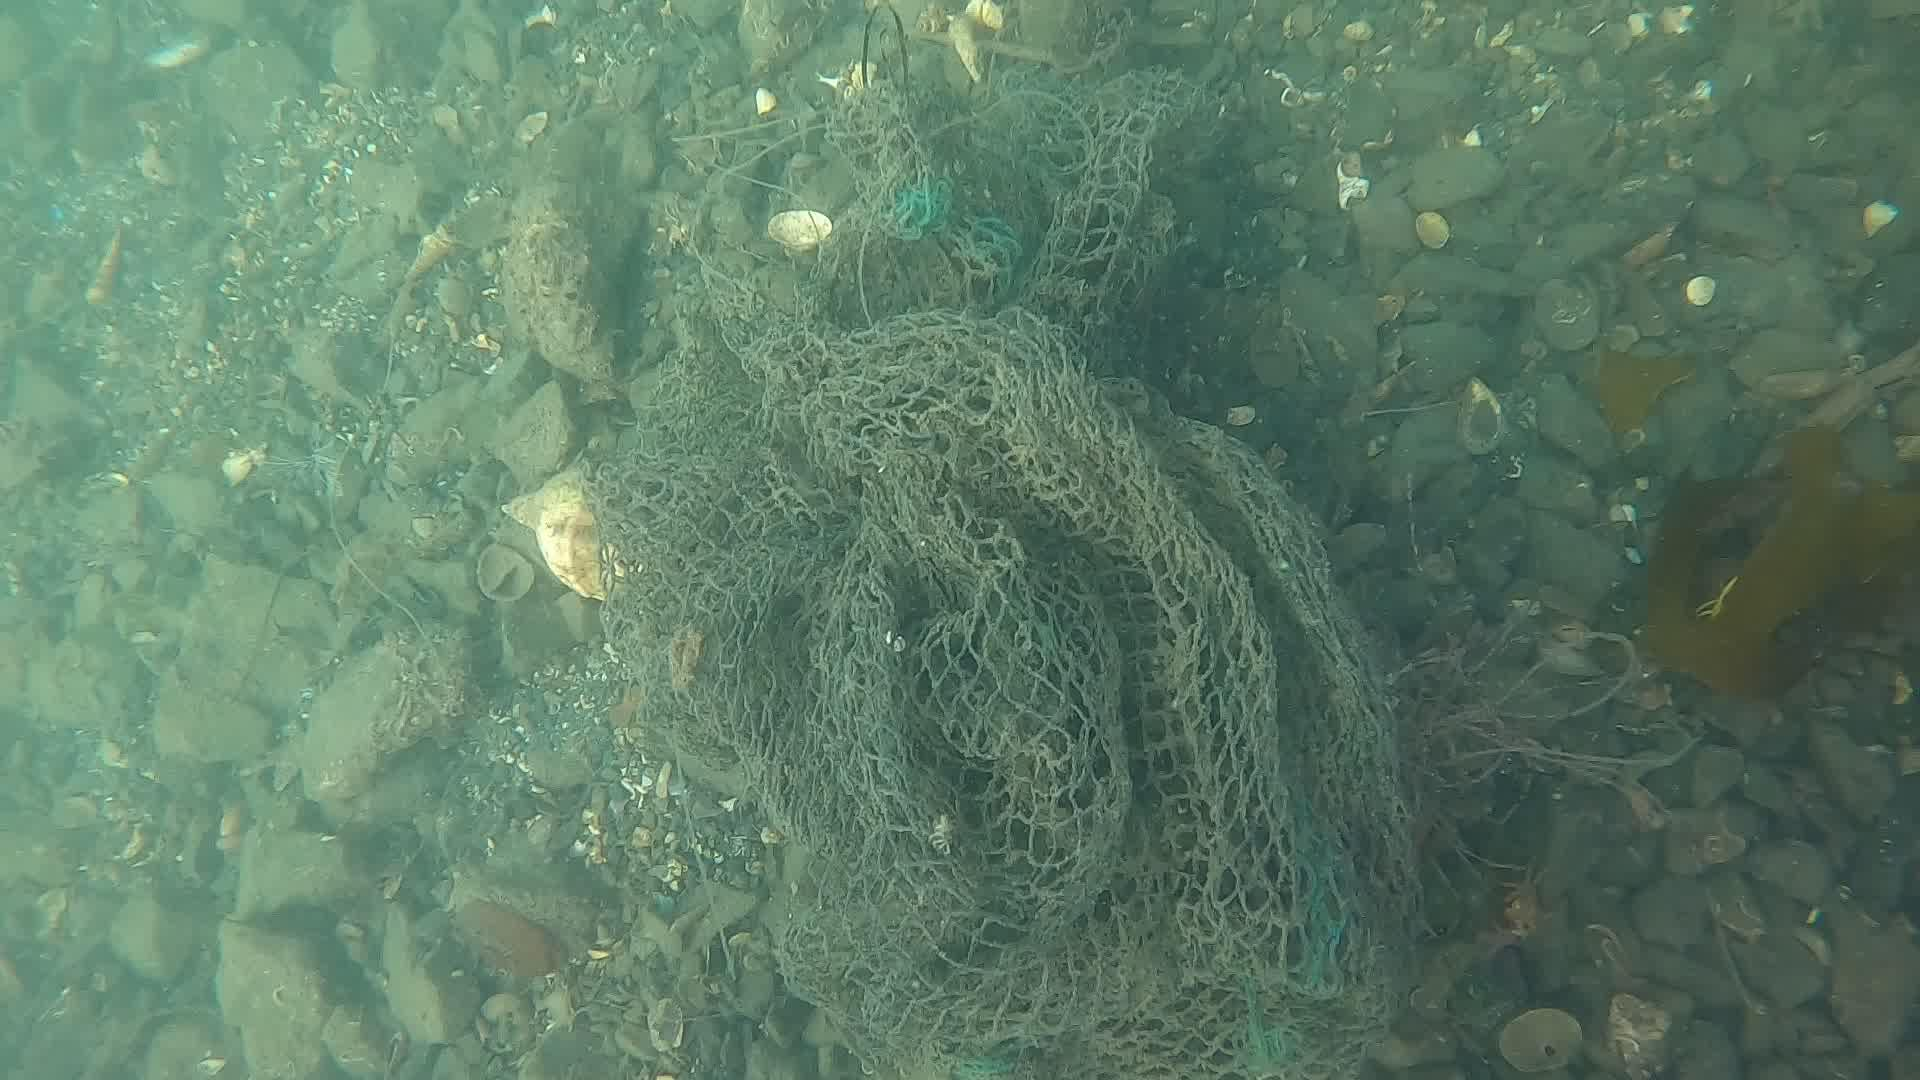fish net: (595, 94, 1396, 1080)
